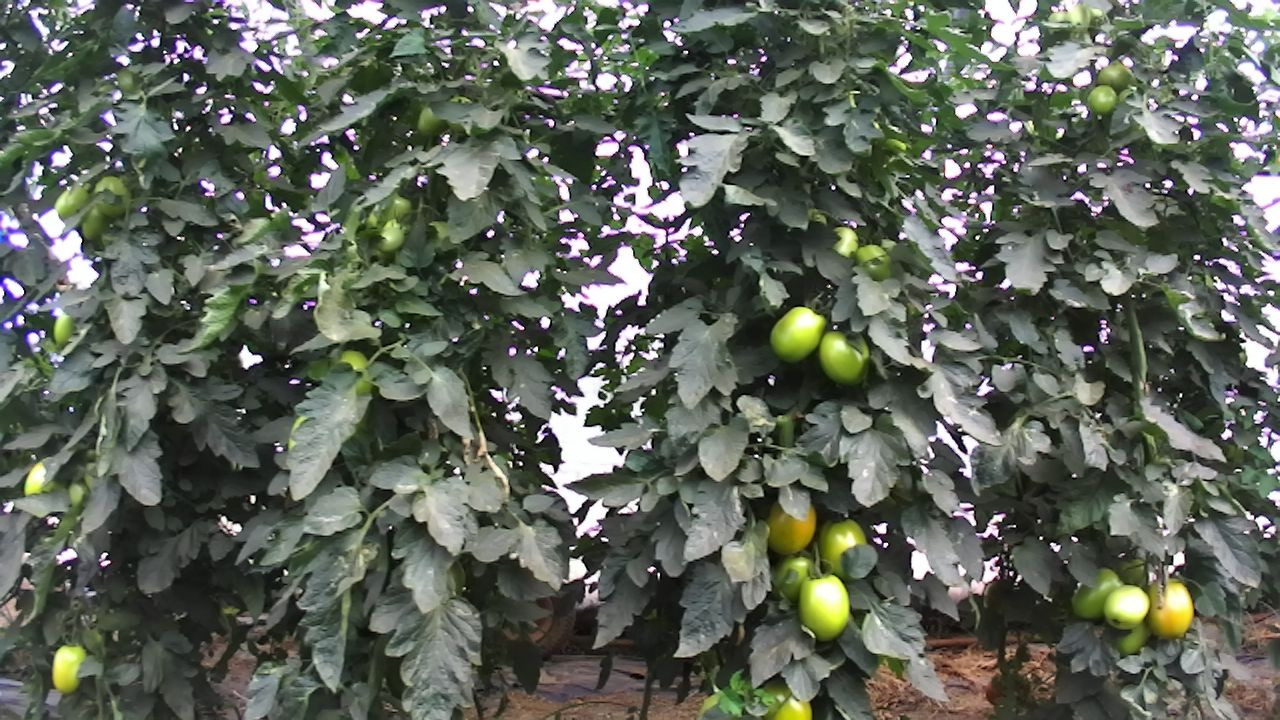tomato: (795, 572, 851, 644), (767, 304, 828, 364), (1144, 577, 1195, 642), (1069, 564, 1125, 622), (764, 496, 817, 557), (816, 331, 871, 388), (819, 519, 869, 579), (1102, 582, 1151, 631), (51, 644, 84, 695), (52, 183, 91, 221), (1096, 63, 1134, 95), (414, 103, 448, 138), (373, 225, 408, 250), (1087, 87, 1116, 115)
